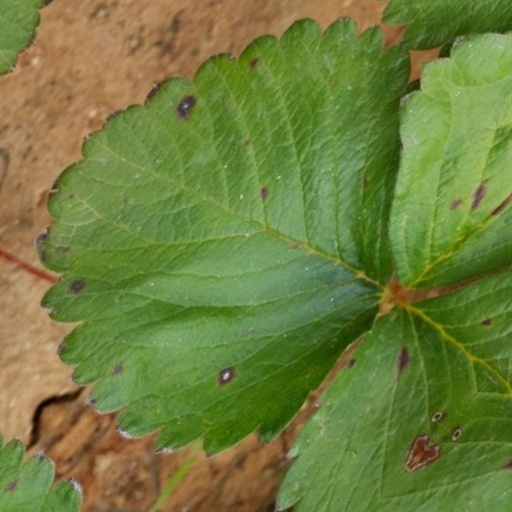Leaf Spot: (119, 0, 464, 482), (7, 0, 260, 181)
